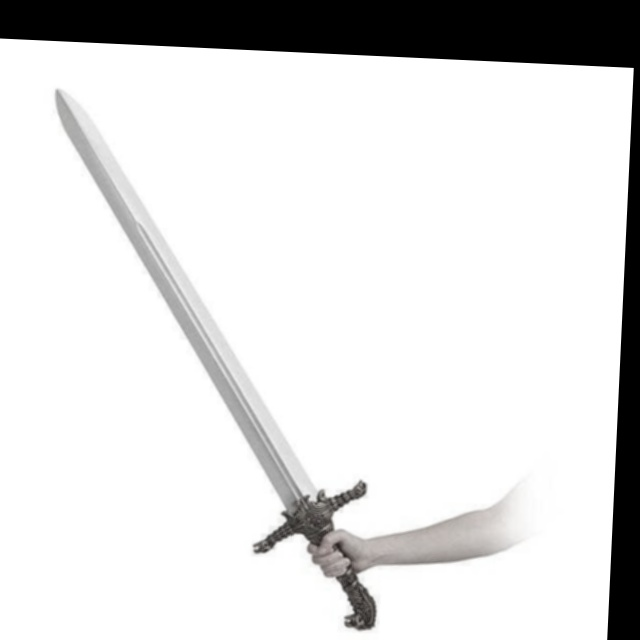Sharp-Object: (14, 77, 417, 633)
